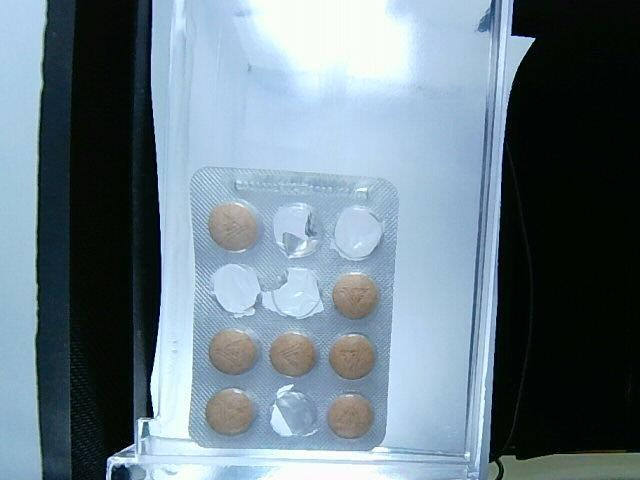Light Front: (187, 166, 400, 454)
No Pill Front: (263, 268, 324, 319), (331, 205, 383, 260), (210, 264, 261, 317), (273, 203, 320, 259), (270, 384, 317, 437)
Pill Front: (209, 203, 257, 251), (209, 329, 259, 375), (205, 389, 255, 435), (329, 334, 376, 380), (270, 331, 317, 377), (333, 273, 379, 319), (328, 394, 374, 439)
